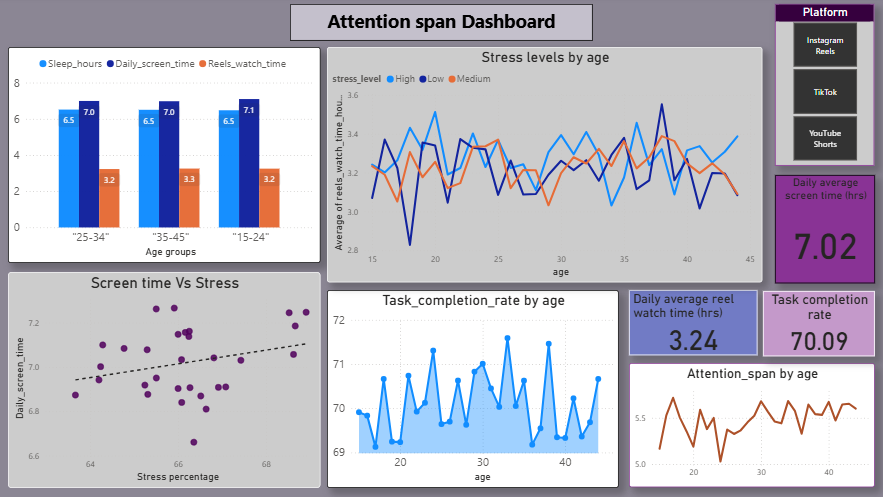

This screenshot's page, from the dashboard's own definition file:
{"tool":"powerbi","page":{"name":"Main page","canvas":[1280,720],"ordinal":0},"visuals":[{"type":"textbox","box":[421.4,10,435.7,52.9],"z":0},{"type":"clusteredColumnChart","title":"Daily screen time by age","fields":{"Y":["Avg(reels_attention_span_dataset_12000.sleep_hours)","Avg(reels_attention_span_dataset_12000.daily_screen_time_hours)","Avg(reels_attention_span_dataset_12000.reels_watch_time_hours)"],"Category":["reels_attention_span_dataset_12000.Age groups"]},"box":[15.1,72.7,449.9,310.5],"z":1000},{"type":"scatterChart","title":"Screen time Vs Stress","fields":{"Category":["reels_attention_span_dataset_12000.age"],"X":["Avg(reels_attention_span_dataset_12000.Stress percentage)"],"Y":["Avg(reels_attention_span_dataset_12000.daily_screen_time_hours)"]},"box":[15.1,395.4,449.9,310.5],"z":2000},{"type":"slicer","title":"Platform","fields":{"Values":["reels_attention_span_dataset_12000.platform"]},"box":[1120,10,142.9,232.9],"z":3000},{"type":"card","title":"Daily average screen time (hrs)","fields":{"Values":["Avg(reels_attention_span_dataset_12000.daily_screen_time_hours)"]},"box":[1120,255.7,144.3,155.7],"z":4000},{"type":"stackedAreaChart","title":"Task_completion_rate by age","fields":{"Y":["Avg(reels_attention_span_dataset_12000.task_completion_rate)"],"Category":["reels_attention_span_dataset_12000.age"]},"box":[475.2,421.9,420.5,285.1],"z":5000},{"type":"card","title":"Daily average reel watch time (hrs)","fields":{"Values":["Avg(reels_attention_span_dataset_12000.reels_watch_time_hours)"]},"box":[910.4,422.6,184.8,93.9],"z":6000},{"type":"lineChart","title":"Stress levels by age","fields":{"Series":["reels_attention_span_dataset_12000.stress_level"],"Category":["reels_attention_span_dataset_12000.age"],"Y":["Avg(reels_attention_span_dataset_12000.reels_watch_time_hours)"]},"box":[475.6,72.7,627.1,339.3],"z":7000},{"type":"lineChart","title":"Attention_span by age","fields":{"Category":["reels_attention_span_dataset_12000.age"],"Y":["Avg(reels_attention_span_dataset_12000.attention_span_score)"]},"box":[910,527.1,354.3,178.6],"z":8000},{"type":"card","title":"Task completion rate","fields":{"Values":["Avg(reels_attention_span_dataset_12000.task_completion_rate)"]},"box":[1102.9,422.9,161.4,94.3],"z":9000},{"type":"actionButton","box":[0,0,100,40],"z":9002}]}

Visuals, with their boxes in screenshot pixels (x1, y1, x2, y2), scaled from the page's 1280x720 canvas onto the 883x497 screenshot:
textbox: 291:7:591:43
"Daily screen time by age" clusteredColumnChart: 10:50:321:265
"Screen time Vs Stress" scatterChart: 10:273:321:487
"Platform" slicer: 773:7:871:168
"Daily average screen time (hrs)" card: 773:177:872:284
"Task_completion_rate by age" stackedAreaChart: 328:291:618:488
"Daily average reel watch time (hrs)" card: 628:292:756:357
"Stress levels by age" lineChart: 328:50:761:284
"Attention_span by age" lineChart: 628:364:872:487
"Task completion rate" card: 761:292:872:357
actionButton: 0:0:69:28
